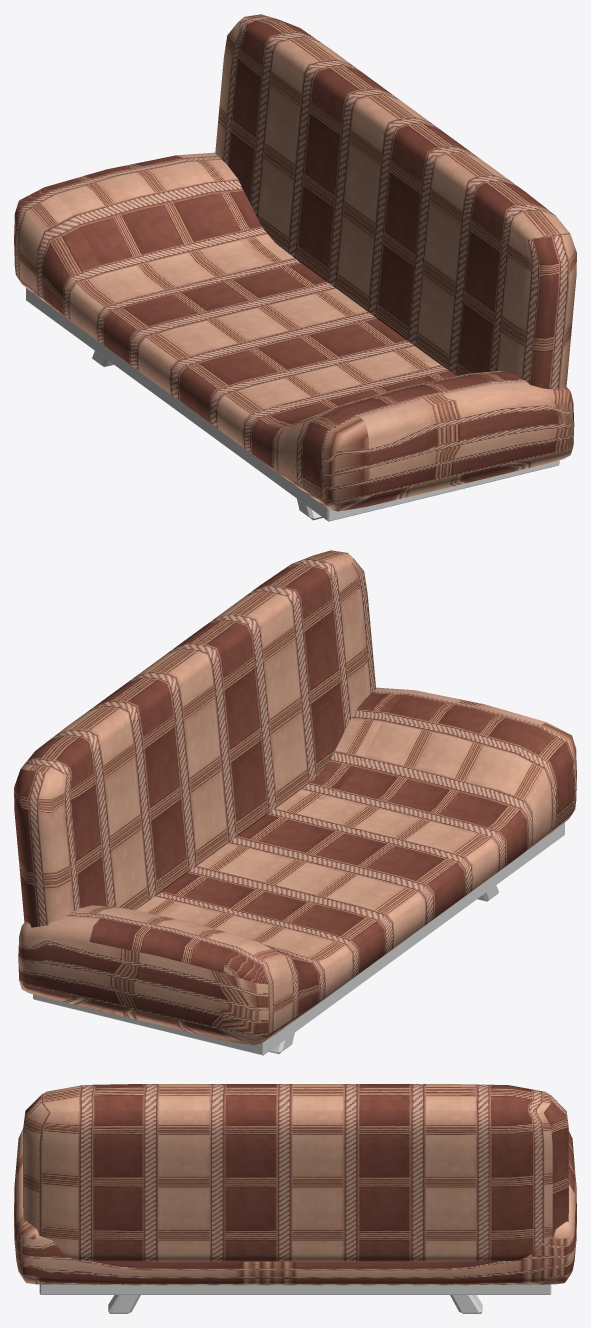
The model's file is divan.fbx.
The picture shows the model from 3 angles, top to bottom: view 1: azimuth 30°, elevation 25°; view 2: azimuth 150°, elevation 25°; view 3: azimuth 270°, elevation 25°; orthographic projection. The views are drawn at different scales.
Parts seen in each view (by area): view 1: Cube.001, Cube, Куб; view 2: Cube.001, Cube, Куб; view 3: Cube, Cube.001, Куб.
Boxes of the visible parts, x1,y1,x2,y2 form: Cube.001: [14, 152, 574, 511]; Cube: [215, 14, 576, 390]; Куб: [26, 288, 559, 521]; Cube.001: [18, 687, 576, 1045]; Cube: [14, 550, 376, 927]; Куб: [33, 822, 564, 1055]; Cube: [23, 1084, 568, 1261]; Cube.001: [14, 1128, 576, 1285]; Куб: [39, 1284, 551, 1313].
Size of the model in its own units: 663 by 654 by 1434.
